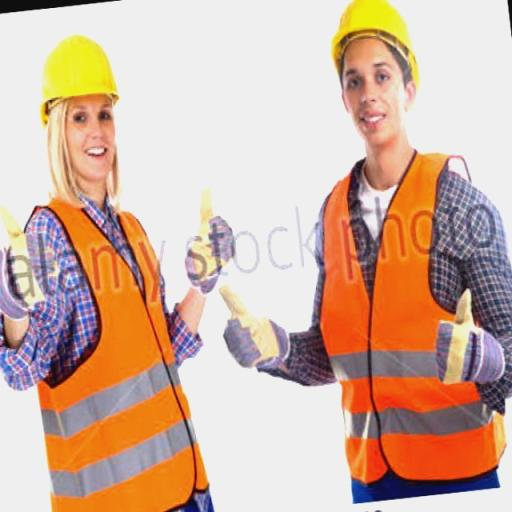Person: (214, 9, 508, 505), (0, 32, 253, 509)
gloves: (431, 288, 504, 402), (217, 282, 289, 376), (180, 186, 236, 300), (3, 196, 57, 308)
helmet: (320, 0, 424, 79), (40, 36, 122, 117)
vest: (322, 146, 508, 497), (22, 197, 215, 510)
